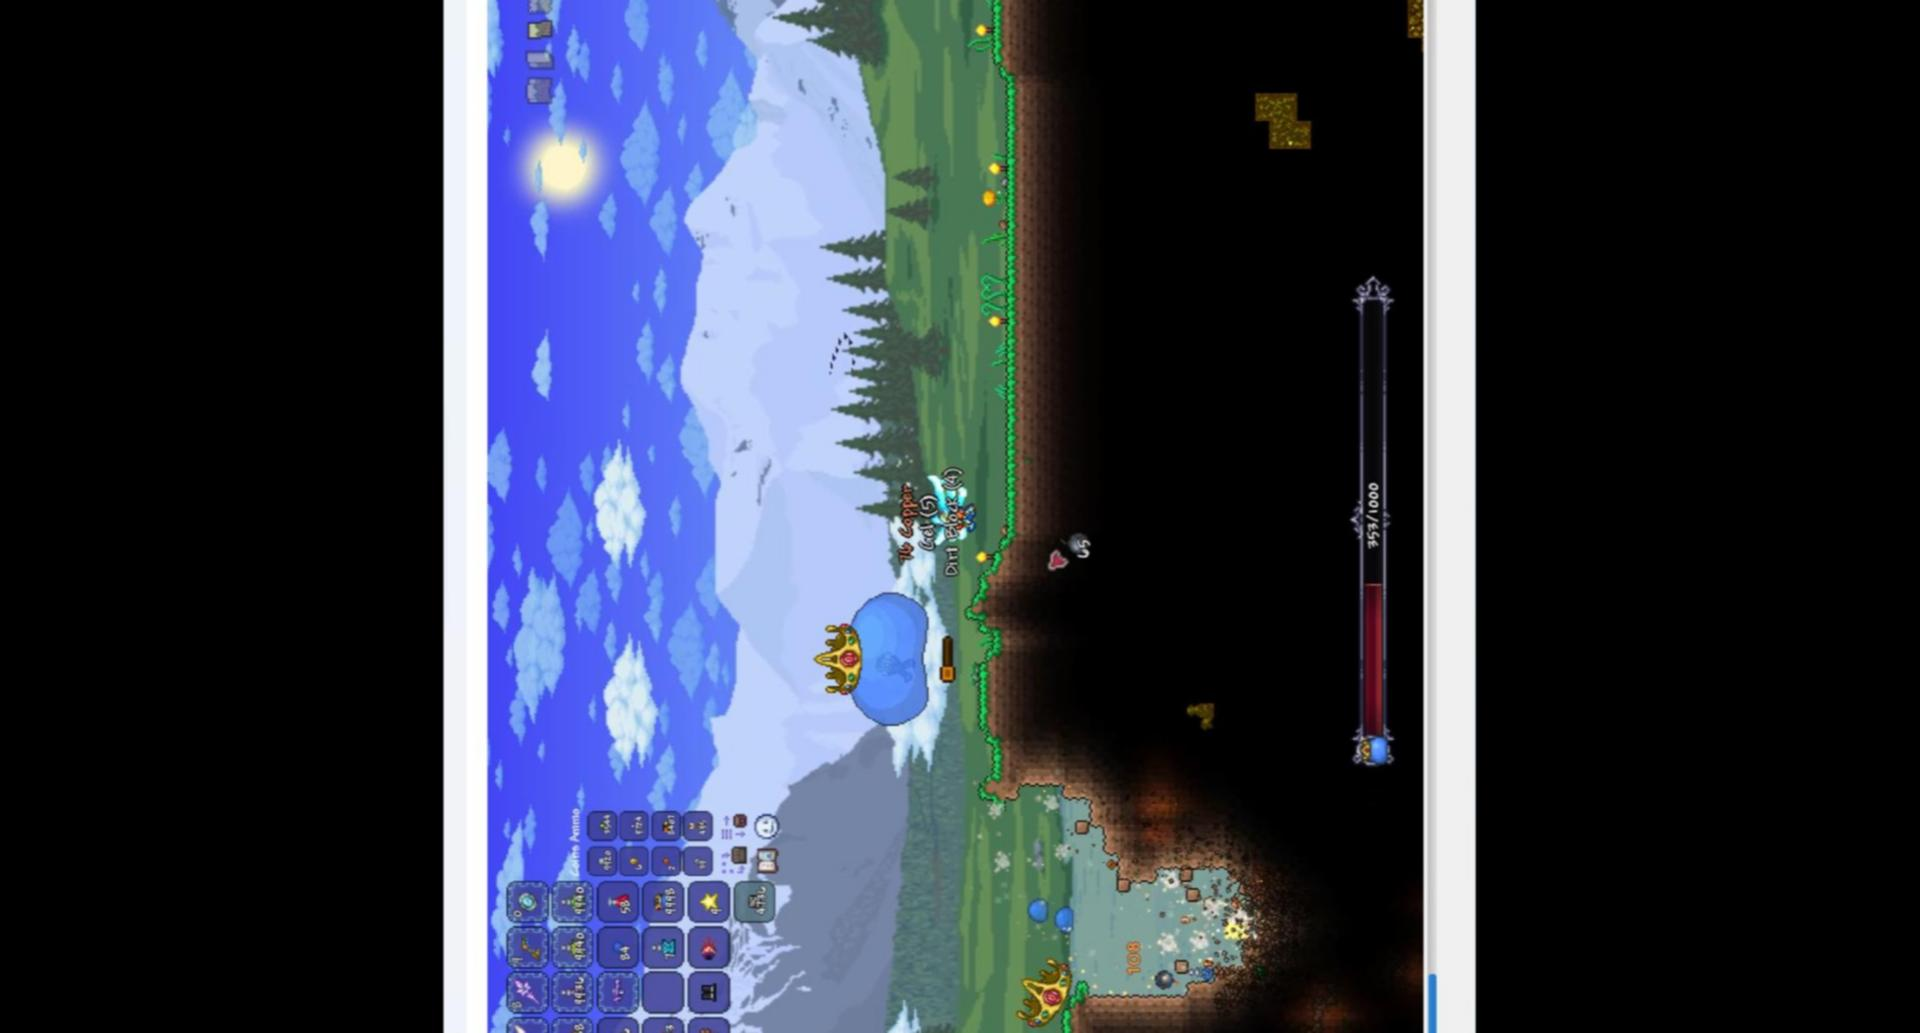slime: (1053, 897, 1077, 931), (1025, 894, 1053, 924)
